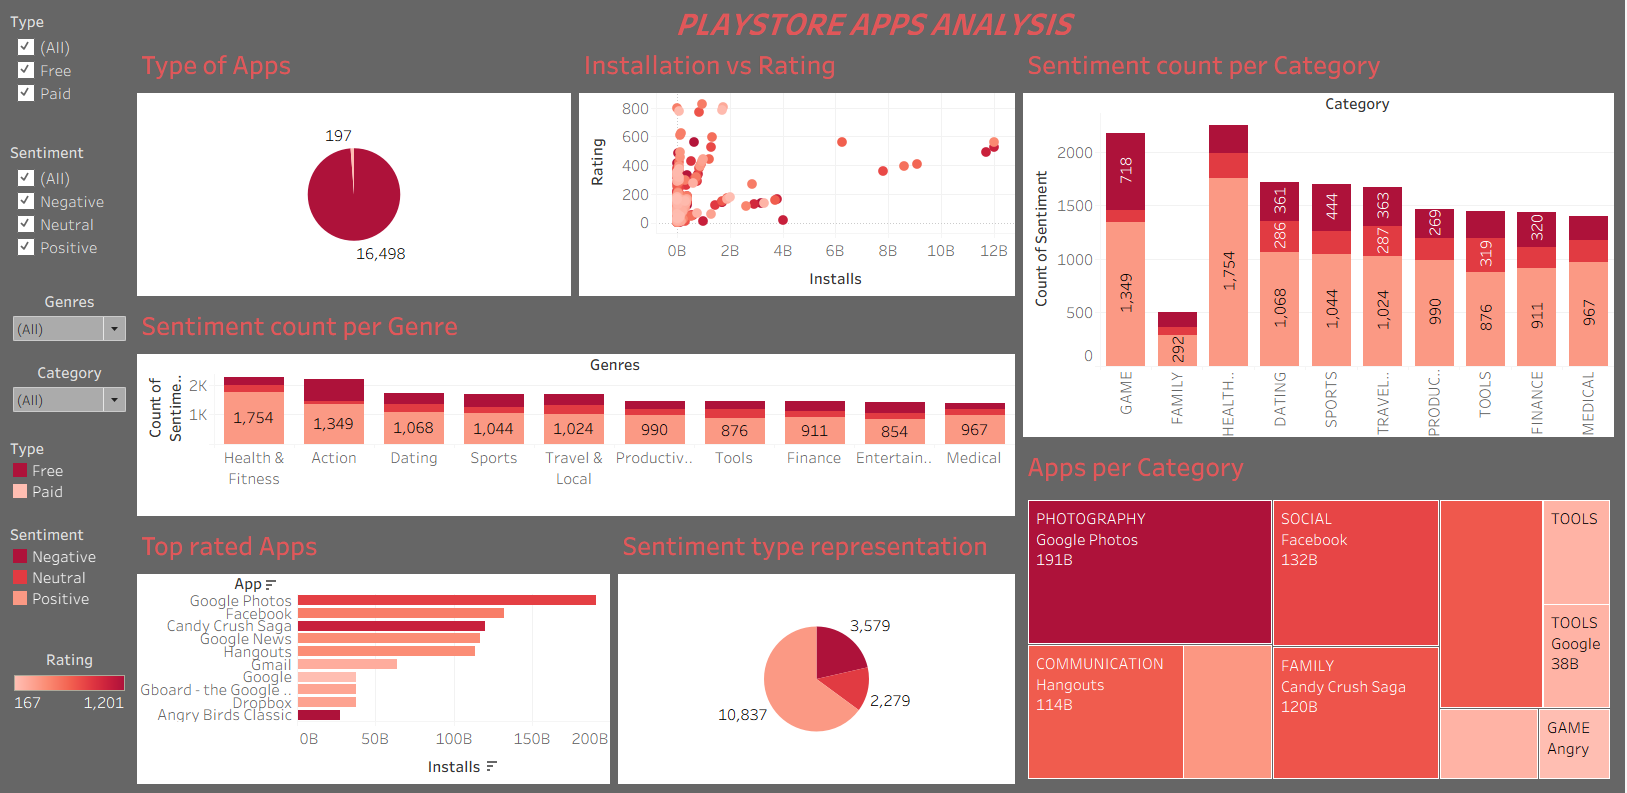

The page's visual inventory and layout, read from the dashboard file:
{"tool":"tableau","page":{"name":"Dashboard 1","canvas":[1000,1000],"units":"permille","ordinal":1},"visuals":[{"type":"filter","title":"Type of Apps","param":"[federated.1pwq1m711i7cax1elqjqa15dna7w].[none:Type:nk]","box":[4.9,10,77.8,164.4]},{"type":"title","box":[82.7,10,912.4,39.9]},{"type":"worksheet","title":"Type of Apps","mark":"Pie","box":[82.7,50,271.8,327.5]},{"type":"worksheet","title":"Installation vs Rating","mark":"Automatic","rows":["Rating"],"cols":["Installs"],"box":[354.4,50,272.7,327.5]},{"type":"worksheet","title":"Sentiment count per Category","mark":"Automatic","rows":["Sentiment"],"cols":["Category"],"box":[627.1,50,367.9,505.1]},{"type":"filter","title":"Sentiment type representation","param":"[federated.1pwq1m711i7cax1elqjqa15dna7w].[none:Sentiment:nk]","box":[4.9,174.4,77.8,186.9]},{"type":"filter","title":"Sentiment count per Genre","param":"[federated.1pwq1m711i7cax1elqjqa15dna7w].[none:Genres:nk]","box":[4.9,361.3,77.8,89.1]},{"type":"worksheet","title":"Sentiment count per Genre","mark":"Automatic","rows":["Sentiment"],"cols":["Genres"],"box":[82.7,377.5,544.5,276.4]},{"type":"filter","title":"Sentiment count per Category","param":"[federated.1pwq1m711i7cax1elqjqa15dna7w].[Action (Category)]","box":[4.9,450.4,77.8,95.4]},{"type":"legend","title":"Type of Apps","param":"[federated.1pwq1m711i7cax1elqjqa15dna7w].[none:Type:nk]","box":[4.9,545.8,77.8,90.3]},{"type":"worksheet","title":"Apps per Category","mark":"Automatic","box":[627.1,555,367.9,434.9]},{"type":"legend","title":"Sentiment type representation","param":"[federated.1pwq1m711i7cax1elqjqa15dna7w].[none:Sentiment:nk]","box":[4.9,636.1,77.8,115.4]},{"type":"worksheet","title":"Top rated Apps","mark":"Automatic","rows":["App"],"cols":["Installs"],"box":[82.7,653.9,295.9,336]},{"type":"worksheet","title":"Sentiment type representation","mark":"Pie","box":[378.5,653.9,248.6,336]},{"type":"legend","title":"Top rated Apps","param":"[federated.1pwq1m711i7cax1elqjqa15dna7w].[sum:Rating:qk]","box":[4.9,751.6,77.8,238.4]}]}

Visuals, with their boxes on the dashboard's canvas, which has no fixed pixel size, in thousandths of its width and height (x1, y1, x2, y2). These are canvas units, not pixel positions in the 1627x793 screenshot, which may show the page scaled, cropped or inside an application window:
"Type of Apps" filter: bbox=(5, 10, 83, 174)
title: bbox=(83, 10, 995, 50)
"Type of Apps" worksheet (Pie marks): bbox=(83, 50, 354, 378)
"Installation vs Rating" worksheet: bbox=(354, 50, 627, 378)
"Sentiment count per Category" worksheet: bbox=(627, 50, 995, 555)
"Sentiment type representation" filter: bbox=(5, 174, 83, 361)
"Sentiment count per Genre" filter: bbox=(5, 361, 83, 450)
"Sentiment count per Genre" worksheet: bbox=(83, 378, 627, 654)
"Sentiment count per Category" filter: bbox=(5, 450, 83, 546)
"Type of Apps" legend: bbox=(5, 546, 83, 636)
"Apps per Category" worksheet: bbox=(627, 555, 995, 990)
"Sentiment type representation" legend: bbox=(5, 636, 83, 752)
"Top rated Apps" worksheet: bbox=(83, 654, 379, 990)
"Sentiment type representation" worksheet (Pie marks): bbox=(378, 654, 627, 990)
"Top rated Apps" legend: bbox=(5, 752, 83, 990)
